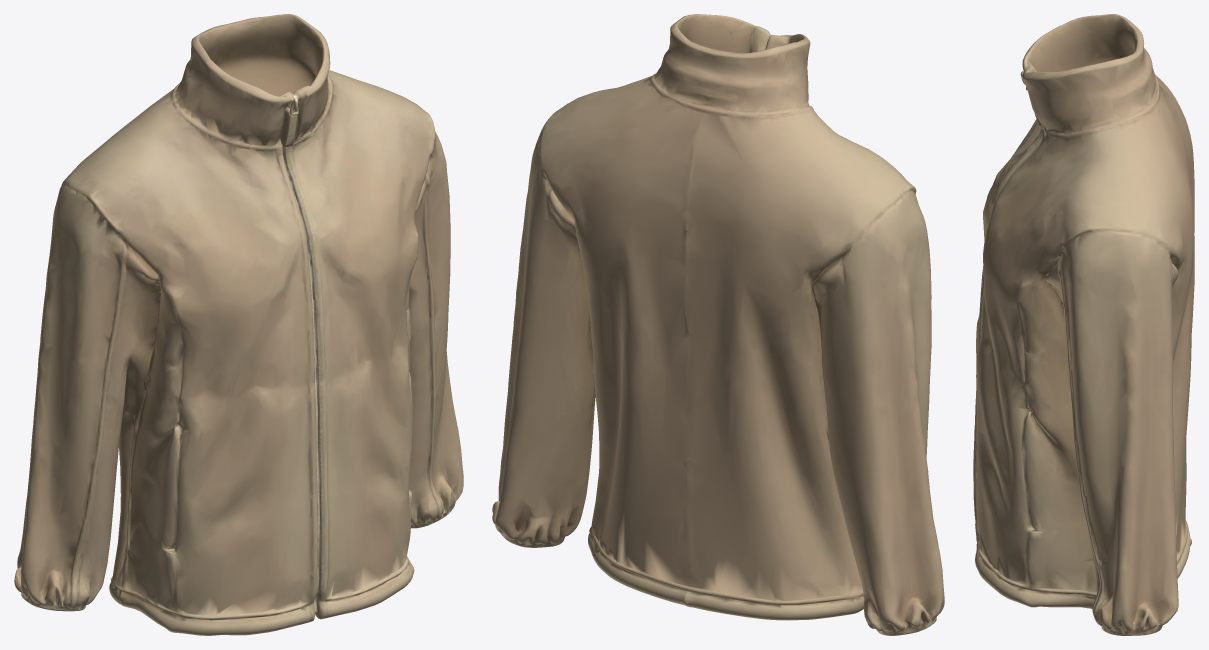
The picture shows the model from 3 angles, left to right: view 1: azimuth 30°, elevation 25°; view 2: azimuth 150°, elevation 25°; view 3: azimuth 270°, elevation 25°; orthographic projection. The views are drawn at different scales.
Parts seen in each view (by area): view 1: tripo_node_74941640-322e-42ad-b083-2d19ca7560fd; view 2: tripo_node_74941640-322e-42ad-b083-2d19ca7560fd; view 3: tripo_node_74941640-322e-42ad-b083-2d19ca7560fd.
Boxes of the visible parts, x1,y1,x2,y2 form: tripo_node_74941640-322e-42ad-b083-2d19ca7560fd: (14, 14, 463, 635); tripo_node_74941640-322e-42ad-b083-2d19ca7560fd: (492, 14, 944, 635); tripo_node_74941640-322e-42ad-b083-2d19ca7560fd: (973, 14, 1194, 635).
Size of the model in its own units: 0.8454 by 0.9996 by 0.3892.
Materials: 1 (1 with a texture image).
